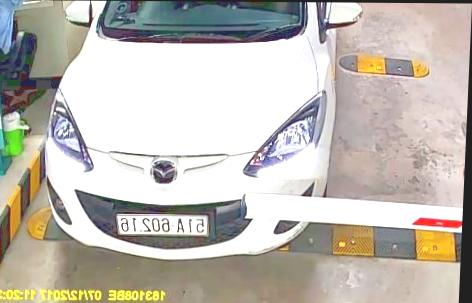License_Plate: (115, 212, 209, 238)
